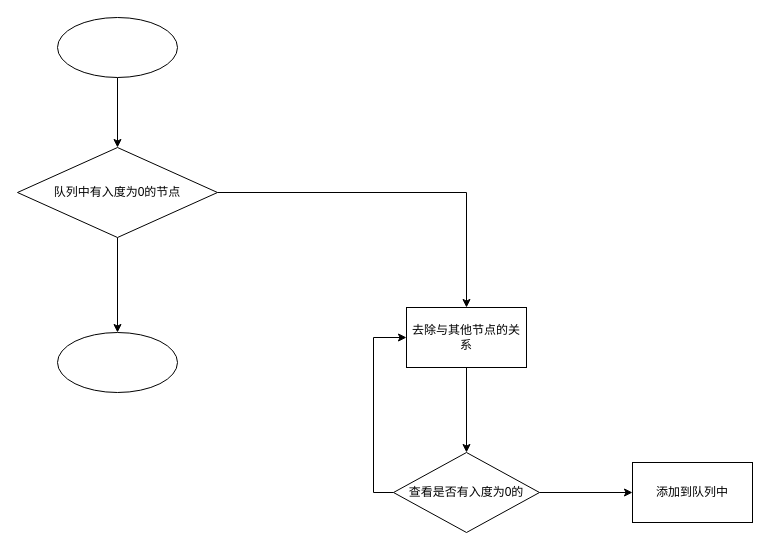
Image size: 770x550. Some labels were removed from this diagram. The centre of each missing label's shape, as x and y in pixels:
程序结束: (117,362)
计算入度: (117,47)
